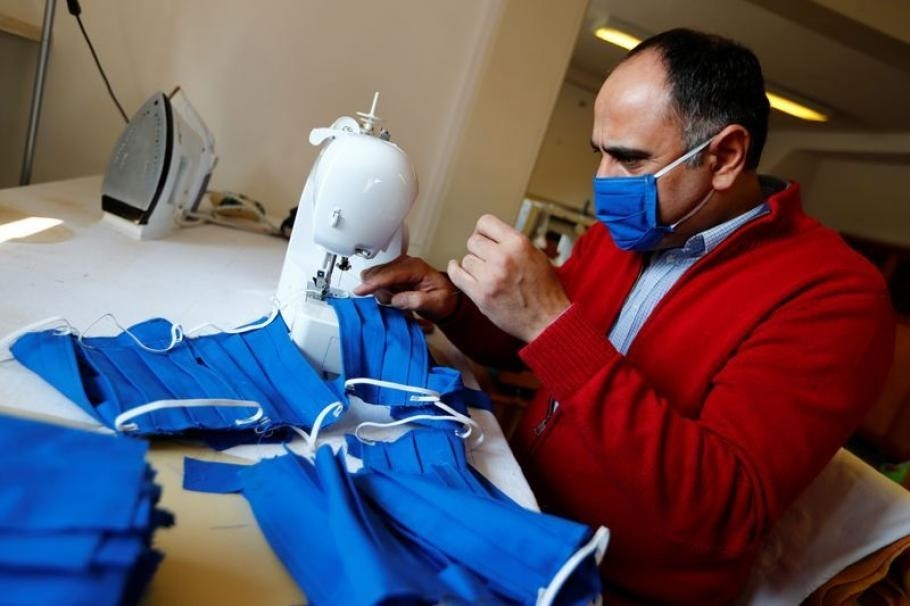face_with_mask: (578, 21, 768, 261)
